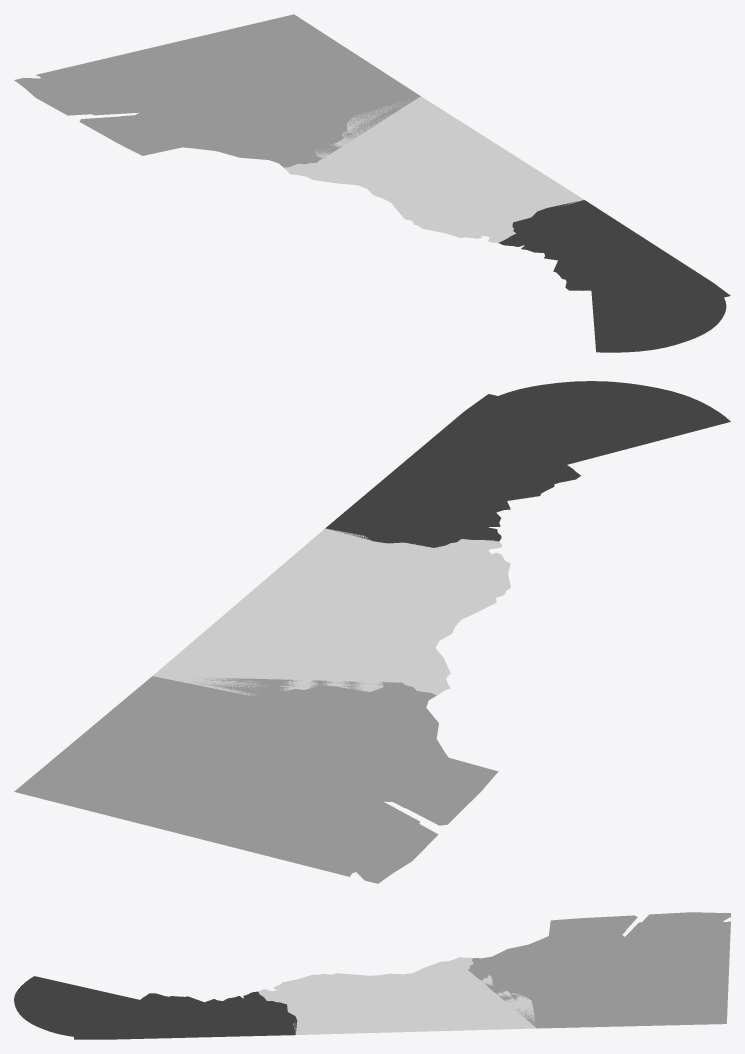
The model's file is Delaware_Counties_2D.fbx.
The picture shows the model from 3 angles, top to bottom: view 1: azimuth 30°, elevation 25°; view 2: azimuth 150°, elevation 25°; view 3: azimuth 270°, elevation 25°; orthographic projection. The views are drawn at different scales.
Parts seen in each view (by area): view 1: DE_Sussex_County_2D, DE_Kent_County_2D, DE_New_Castle_County_2D; view 2: DE_Sussex_County_2D, DE_Kent_County_2D, DE_New_Castle_County_2D; view 3: DE_Sussex_County_2D, DE_Kent_County_2D, DE_New_Castle_County_2D.
Part boxes in pixels (x1,y1,x2,y2): DE_Sussex_County_2D: (14,14,420,167); DE_Kent_County_2D: (284,96,583,242); DE_New_Castle_County_2D: (499,200,730,352); DE_Sussex_County_2D: (14,676,498,883); DE_Kent_County_2D: (152,528,510,695); DE_New_Castle_County_2D: (325,381,730,547); DE_Sussex_County_2D: (468,912,730,1028); DE_Kent_County_2D: (258,957,536,1034); DE_New_Castle_County_2D: (14,976,297,1039).
Bounding box in the file's own units: 335 × 0 × 795.
